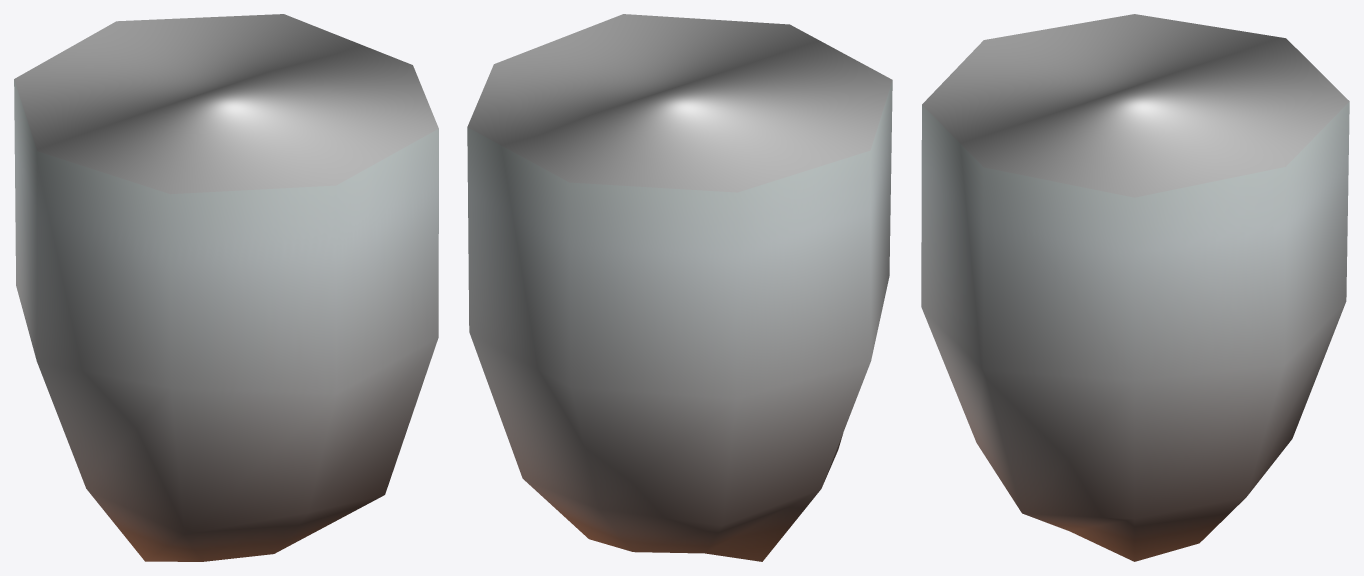
File: greenonion_piece1.fbx
3 renders of one model, left to right at view 1: azimuth 30°, elevation 25°; view 2: azimuth 150°, elevation 25°; view 3: azimuth 270°, elevation 25°, orthographic. The views are drawn at different scales.
Visible parts, largest first — view 1: GreenOnion.006; view 2: GreenOnion.006; view 3: GreenOnion.006.
Boxes of the visible parts, x1,y1,x2,y2 form: GreenOnion.006: (14,14,438,561); GreenOnion.006: (467,14,892,561); GreenOnion.006: (921,14,1349,561).
Bounding box in the file's own units: 48.41 × 53.94 × 49.01.
